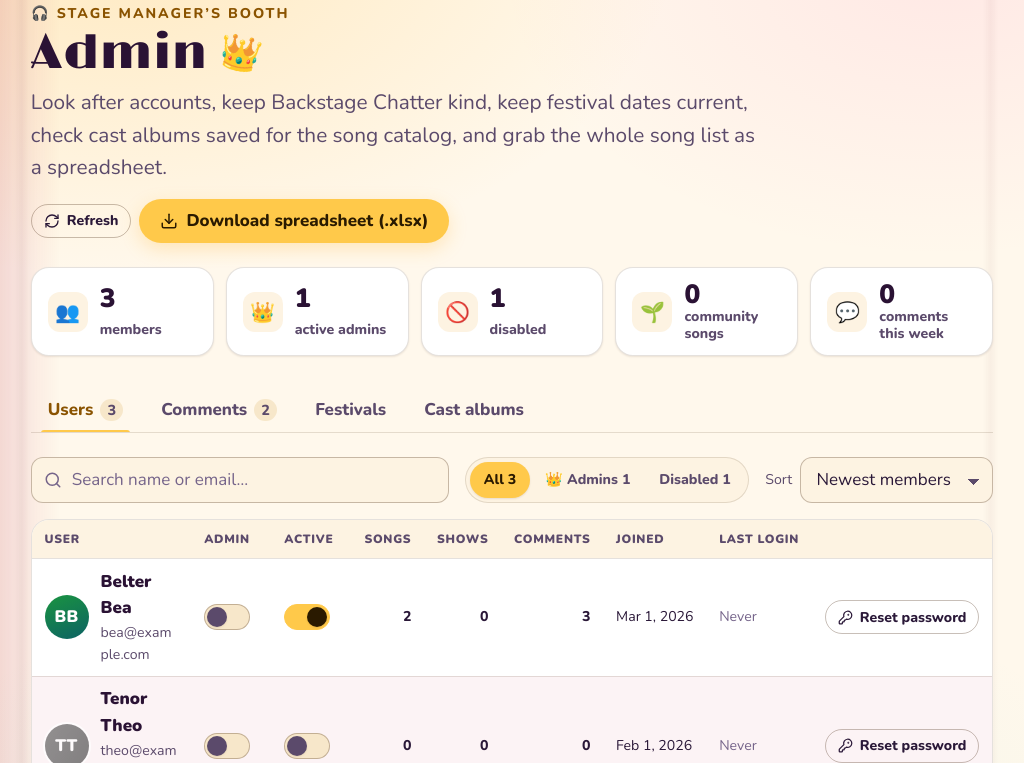
Scenario: AdminPage › says when an unused temporary password stops working
This screenshot has width=1024, height=763.
Click the button with test id "reset-password" in the row of "BB".
click(902, 617)  # box [825,600,980,634]
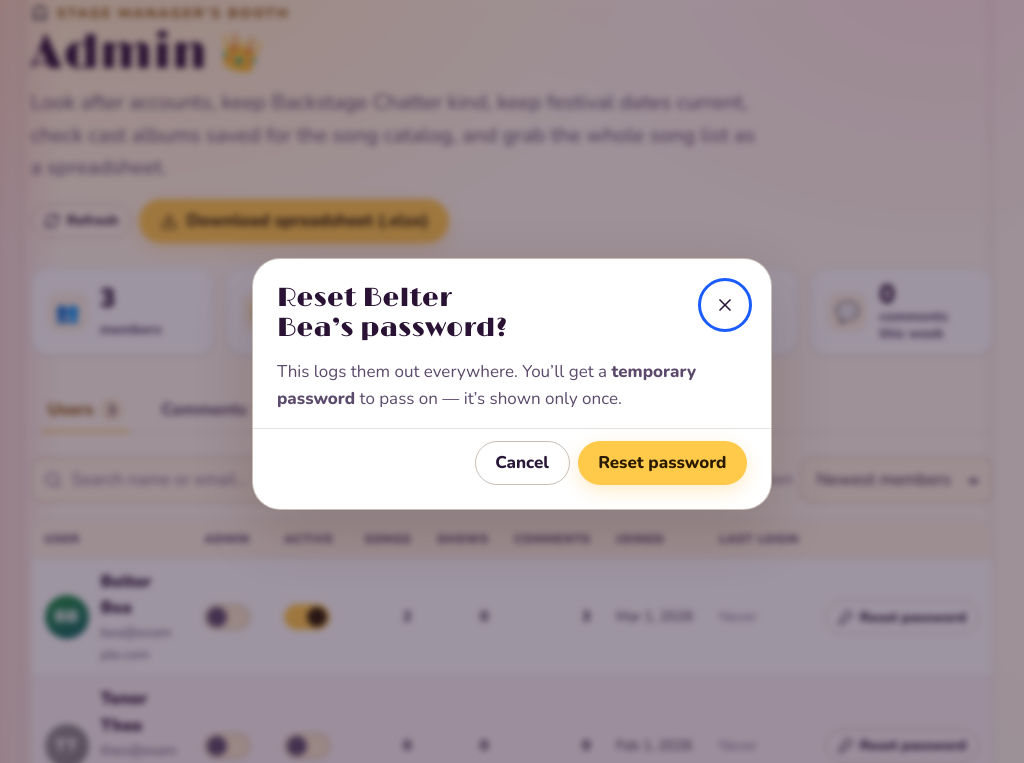
Click the button with test id "confirm-button".
click(662, 463)  # box [578,441,747,485]
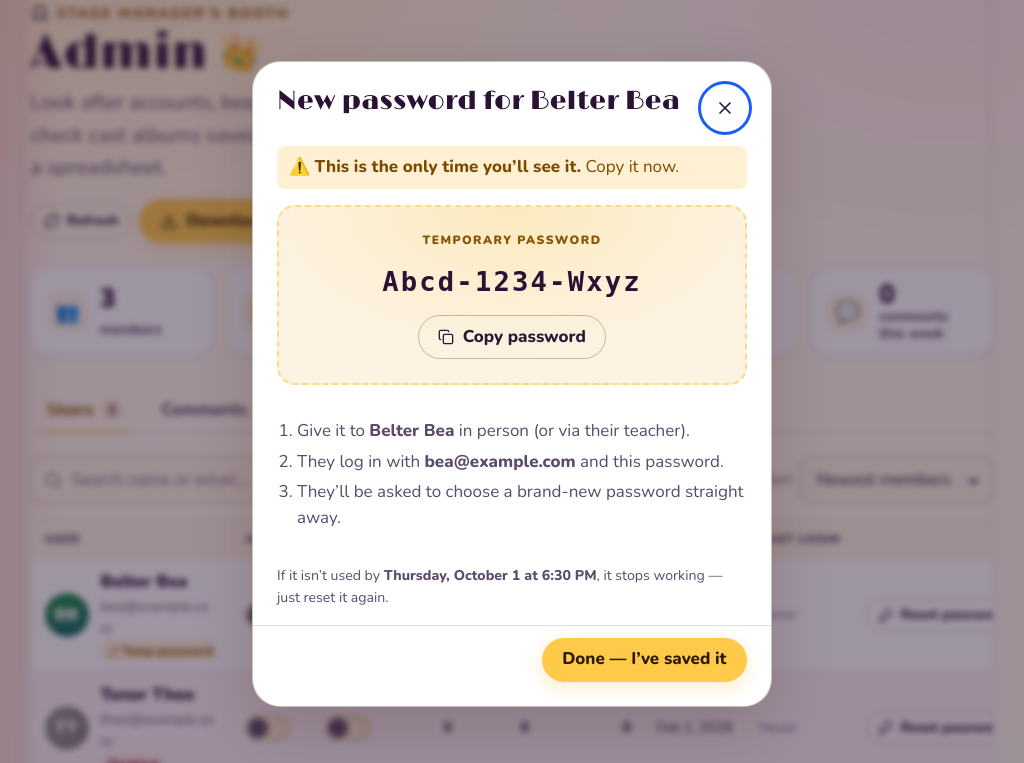
Expected: the element with test id "temp-password-expiry" shows "stops working", [277,566,722,607]
Expected: the element with test id "temp-password-expiry" shows "October", [384,566,597,585]
